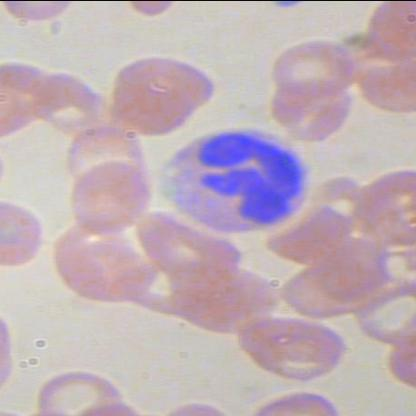Platelets: (268, 0, 316, 12)
RBC: (112, 49, 223, 115), (238, 314, 348, 380), (70, 159, 155, 235), (269, 32, 357, 101), (271, 79, 358, 148), (32, 364, 129, 415)
WBC: (155, 126, 313, 234)
